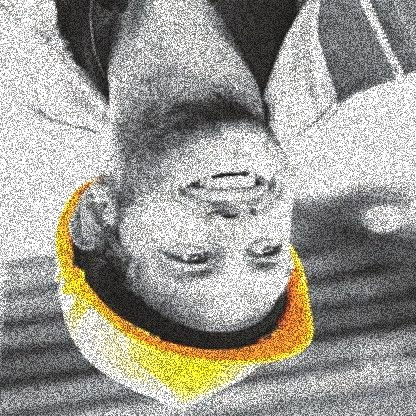yellow: (44, 221, 320, 411)
